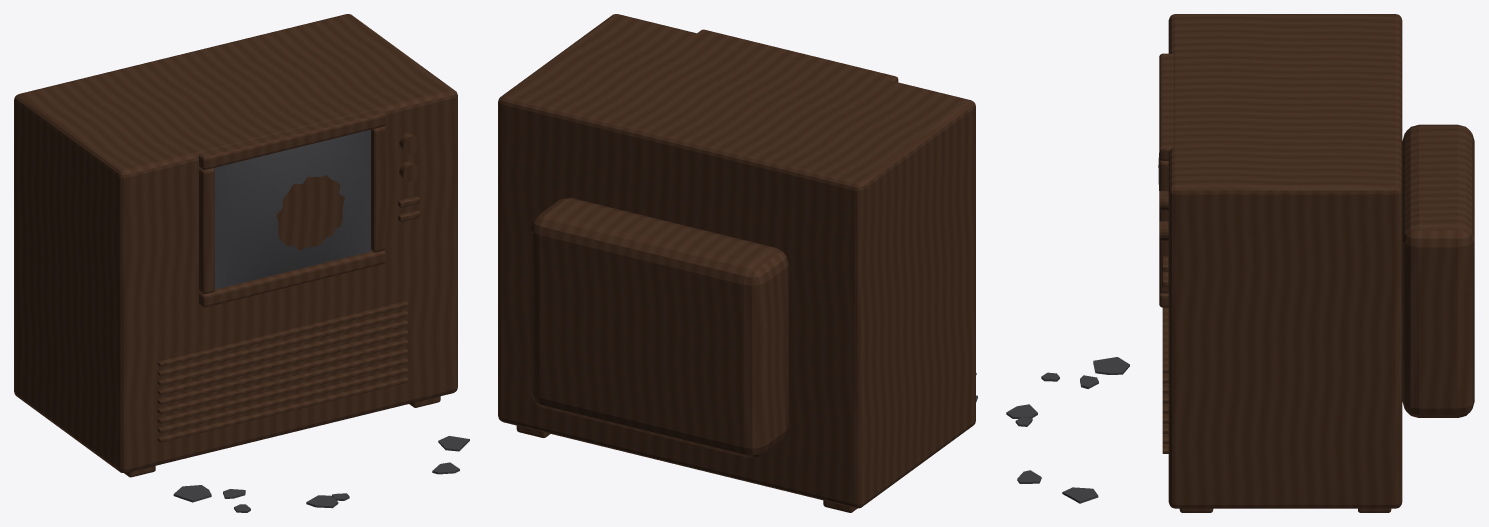
File: PRP_CRTTV_Destroyed.fbx
3 views of the same model, side by side, from view 1: azimuth 30°, elevation 25°; view 2: azimuth 150°, elevation 25°; view 3: azimuth 270°, elevation 25° (orthographic). The views are drawn at different scales.
Visible parts, largest first — view 1: TV_Shell, TV_Screen; view 2: TV_Shell; view 3: TV_Shell, TV_GlassShard_05.
Part boxes in pixels (<box>): TV_Shell: <box>14,14,457,477</box>; TV_Screen: <box>213,129,370,289</box>; TV_Shell: <box>498,14,975,512</box>; TV_Shell: <box>1159,14,1474,512</box>; TV_GlassShard_05: <box>1093,357,1129,374</box>.
Bounding box in the file's own units: 75 × 66 × 84.18.
